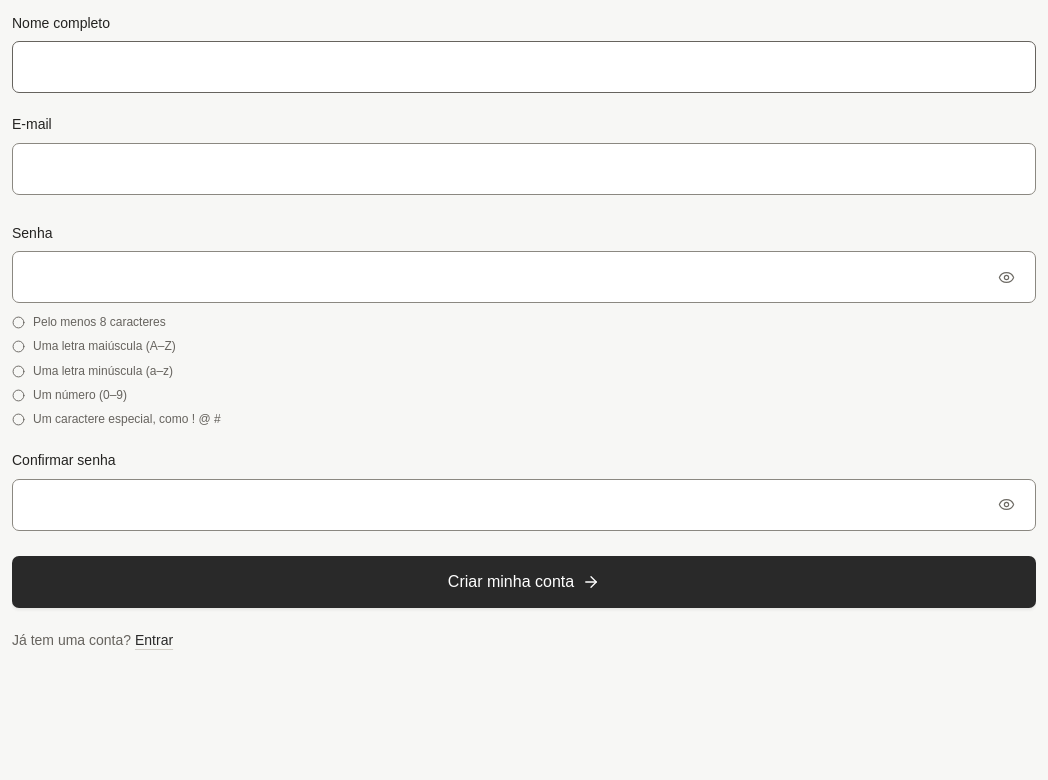
Test: Cadastro público › preserva o formulário quando o backend recusa o cadastro
In the field labelled "Nome completo": x=524, y=67 [12, 41, 1036, 93], type "Pessoa Nova"
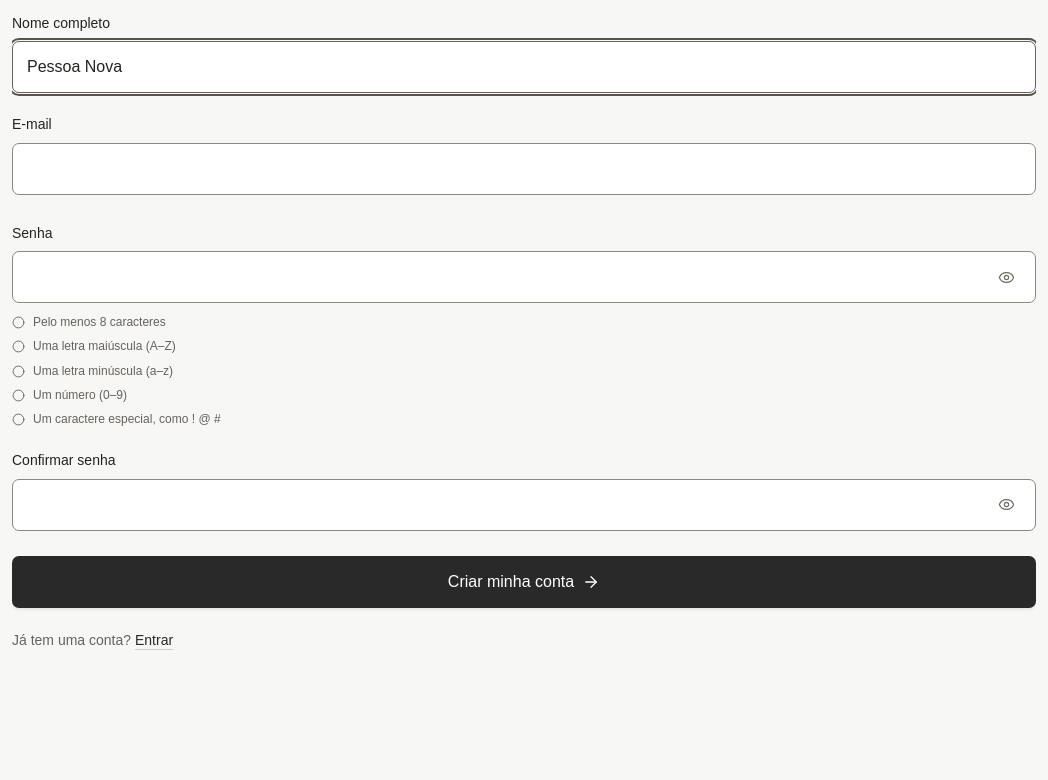
In the field labelled "E-mail": x=524, y=169 [12, 143, 1036, 195], type "nova@example.test"
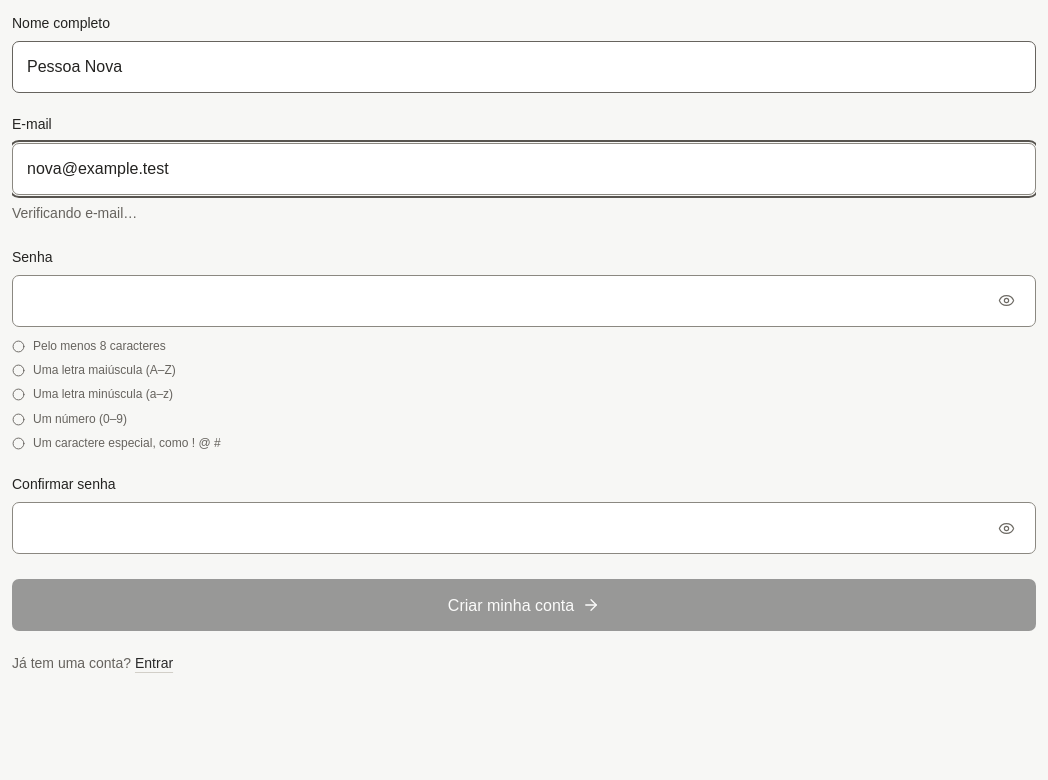
In the password field labelled "Senha": x=524, y=301 [12, 275, 1036, 327], type "Senha-forte-2026"
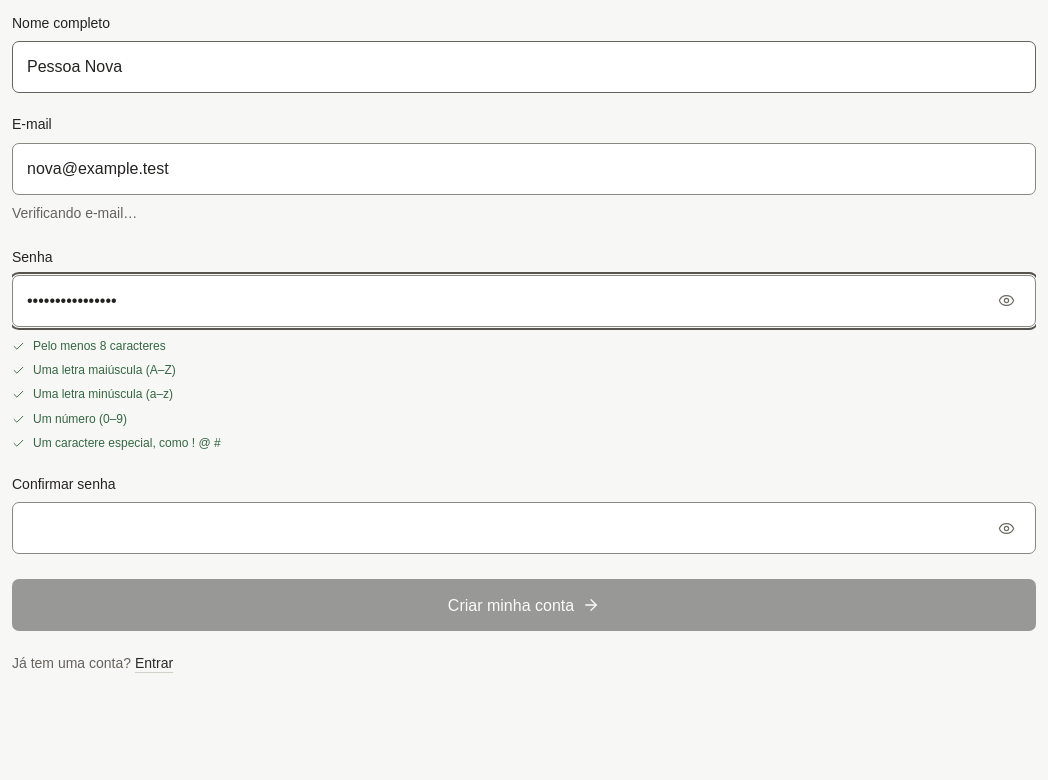
In the password field labelled "Confirmar senha": x=524, y=528 [12, 502, 1036, 554], type "Senha-forte-2026"
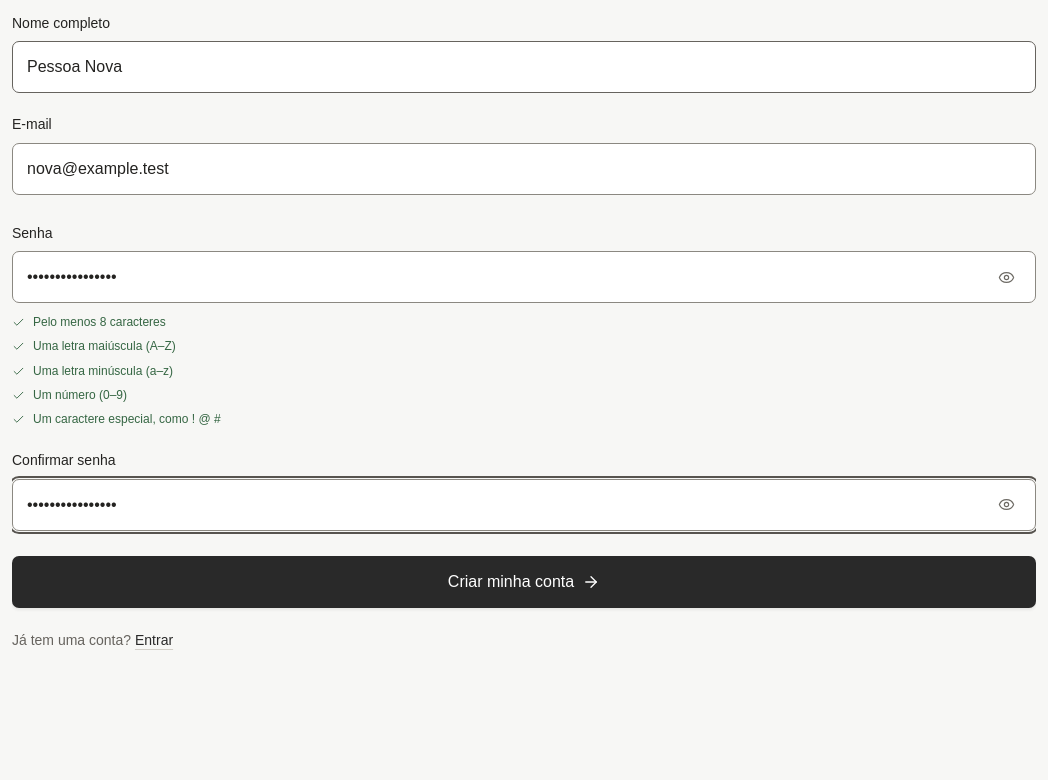
Now the button "Criar minha conta" is enabled
Click the button "Criar minha conta": x=524, y=582 [12, 556, 1036, 608]
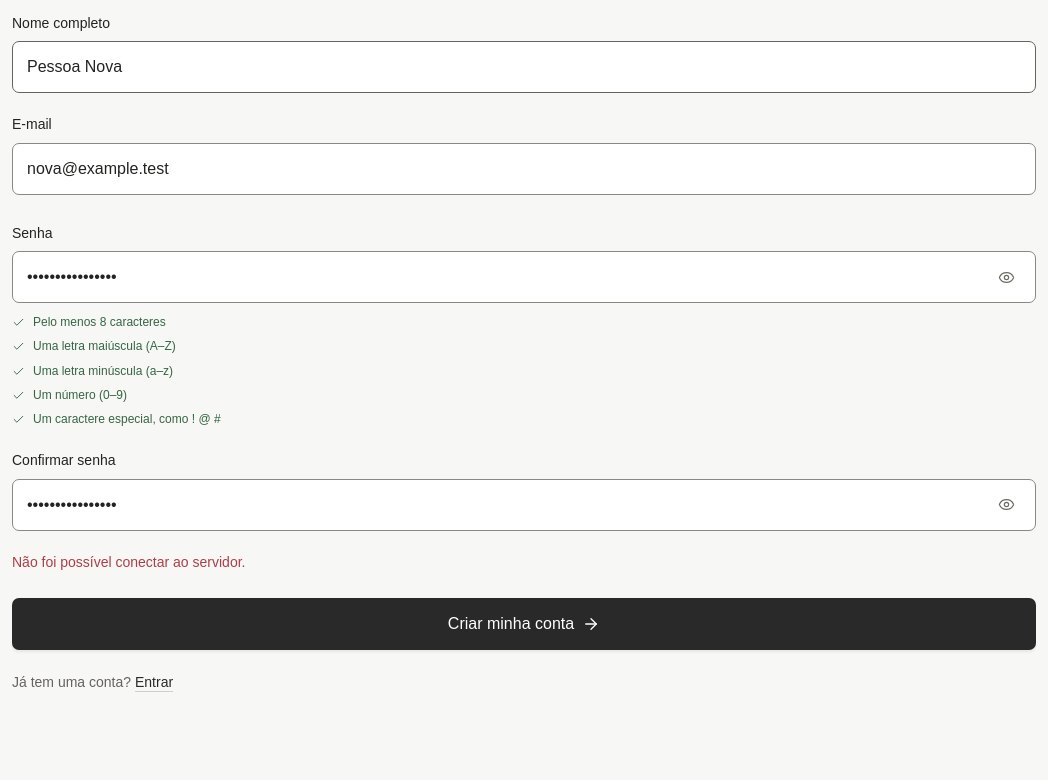
Now the message shows "Não foi possível conectar", box [12, 554, 246, 570]
